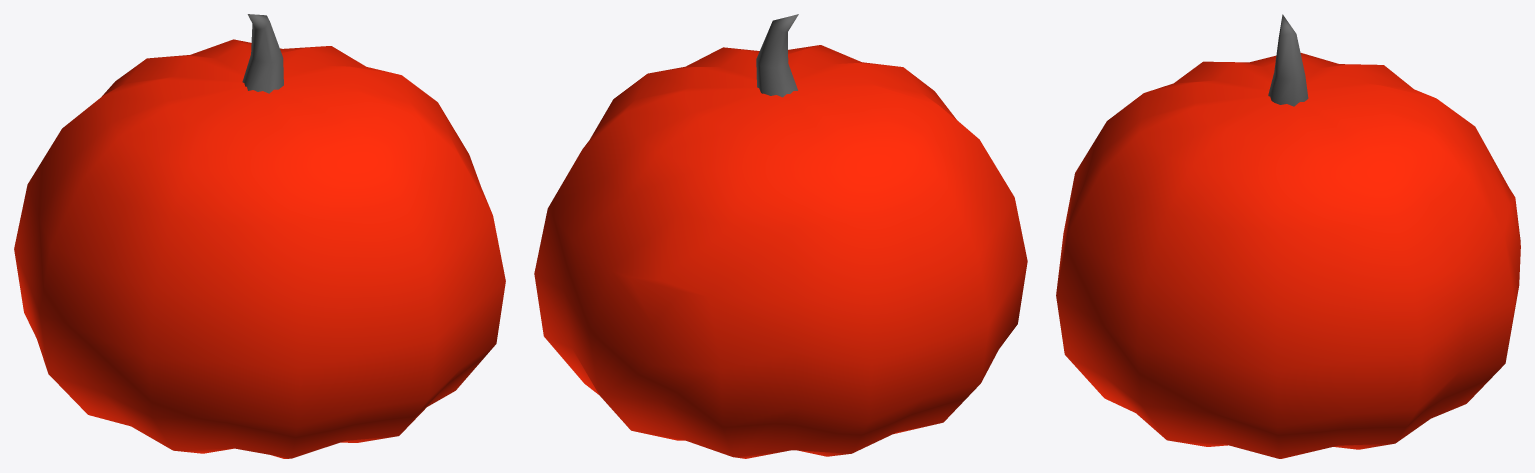
File: Abobora_03.fbx
3 views of the same model, side by side, from view 1: azimuth 30°, elevation 25°; view 2: azimuth 150°, elevation 25°; view 3: azimuth 270°, elevation 25° (orthographic). The views are drawn at different scales.
Parts seen in each view (by area): view 1: Abobora_03; view 2: Abobora_03; view 3: Abobora_03.
Part boxes in pixels (<box>): Abobora_03: <box>14,14,505,458</box>; Abobora_03: <box>534,14,1027,458</box>; Abobora_03: <box>1056,14,1520,458</box>.
Size of the model in its own units: 2.89 by 2.55 by 2.8.
